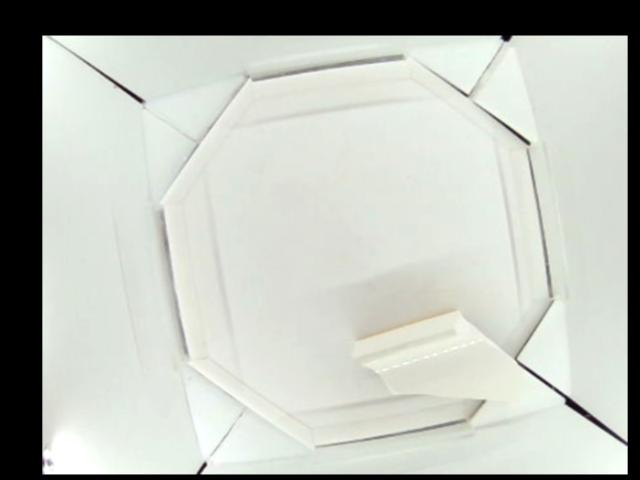China: (355, 307, 565, 404)
